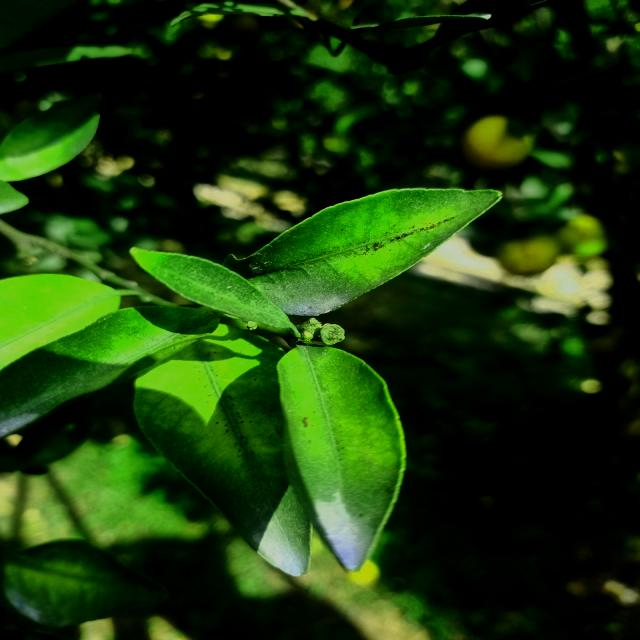blackspot: (152, 353, 330, 568), (258, 186, 480, 313)
